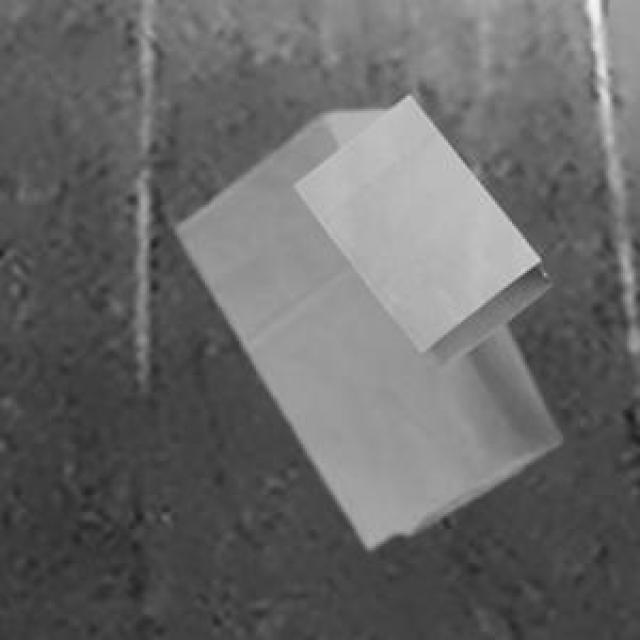paper: (173, 107, 557, 544), (290, 92, 548, 365)
